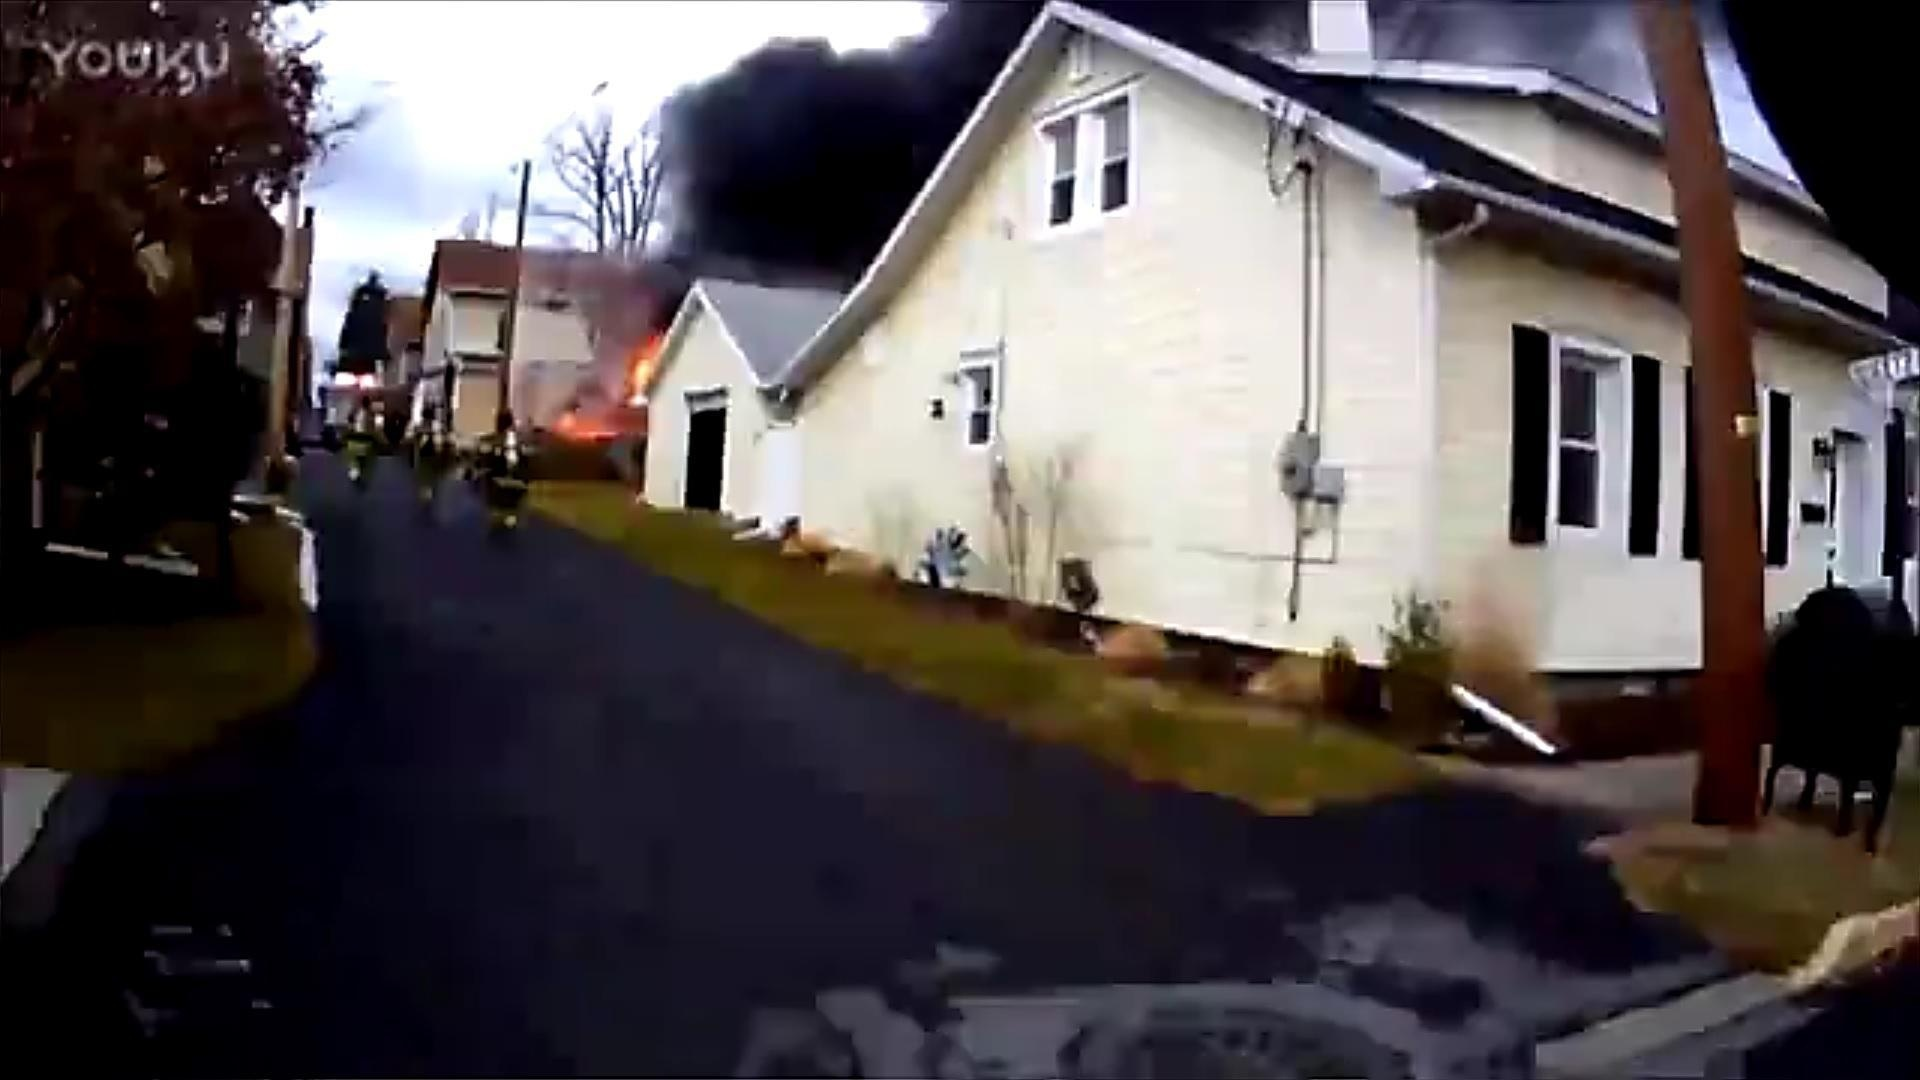fire: (624, 327, 666, 396)
